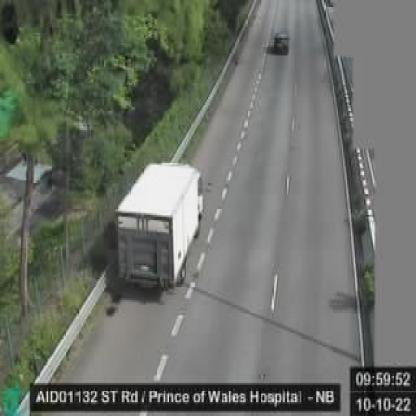Car: (273, 29, 289, 54)
Truck: (116, 161, 204, 290)
